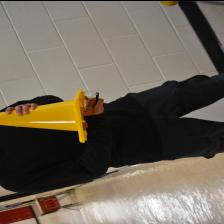cone: (0, 88, 88, 142)
